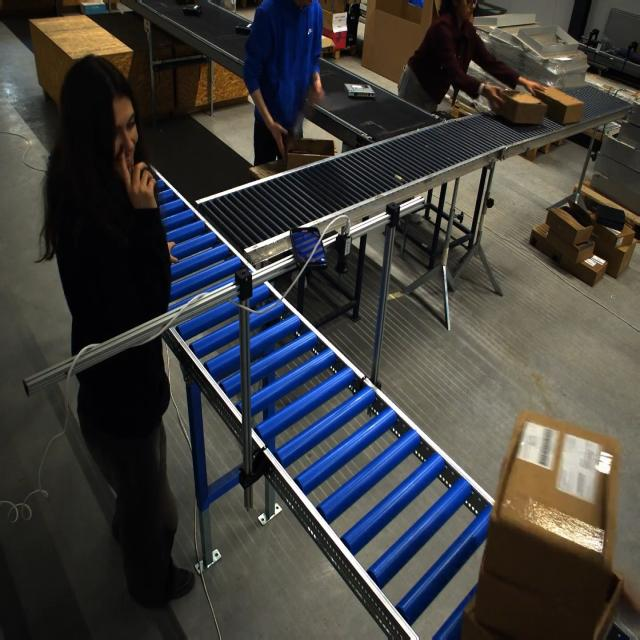box: (531, 86, 583, 126), (494, 89, 547, 124), (284, 136, 331, 169)
product: (343, 83, 375, 99), (182, 4, 202, 17), (235, 24, 252, 34)
